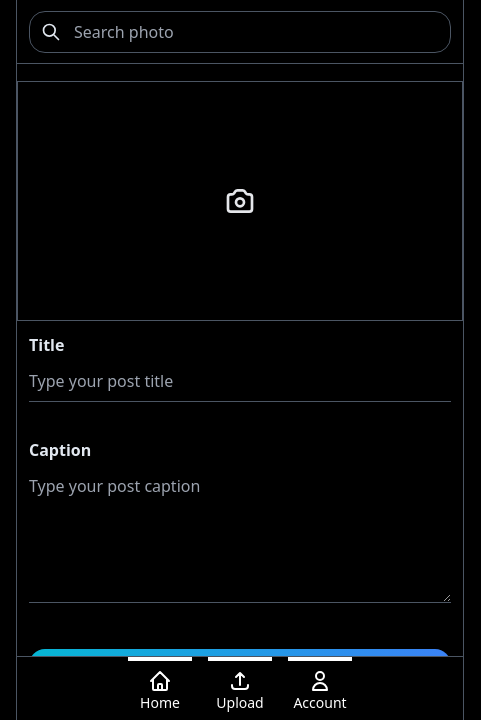
Test: upload testing › error pada input title
Type "a" into the field with test id "input-title". click: [240, 382]
box: [29,361,451,402]
Then press Backspace
Press Tab
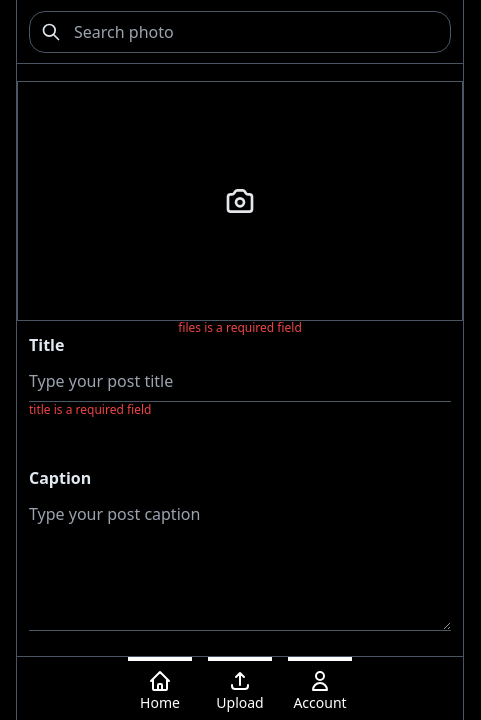
Check: the text "title is a required field" is shown, box [29,401,151,418]
